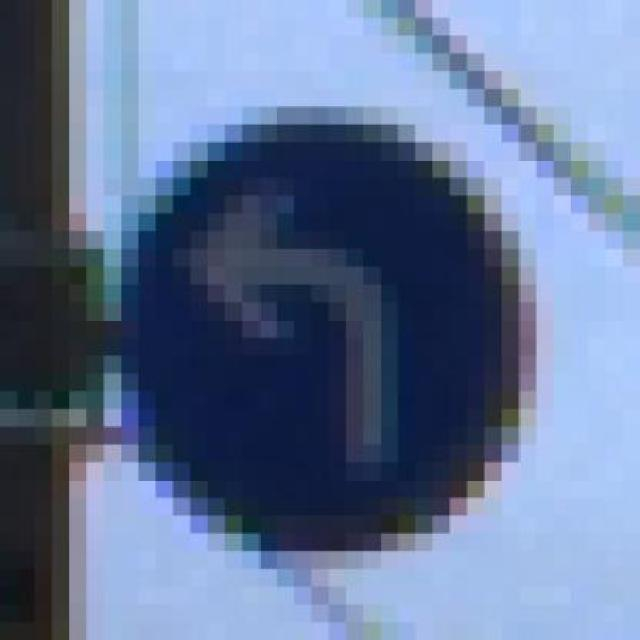Turn left ahead: (86, 106, 588, 569)
